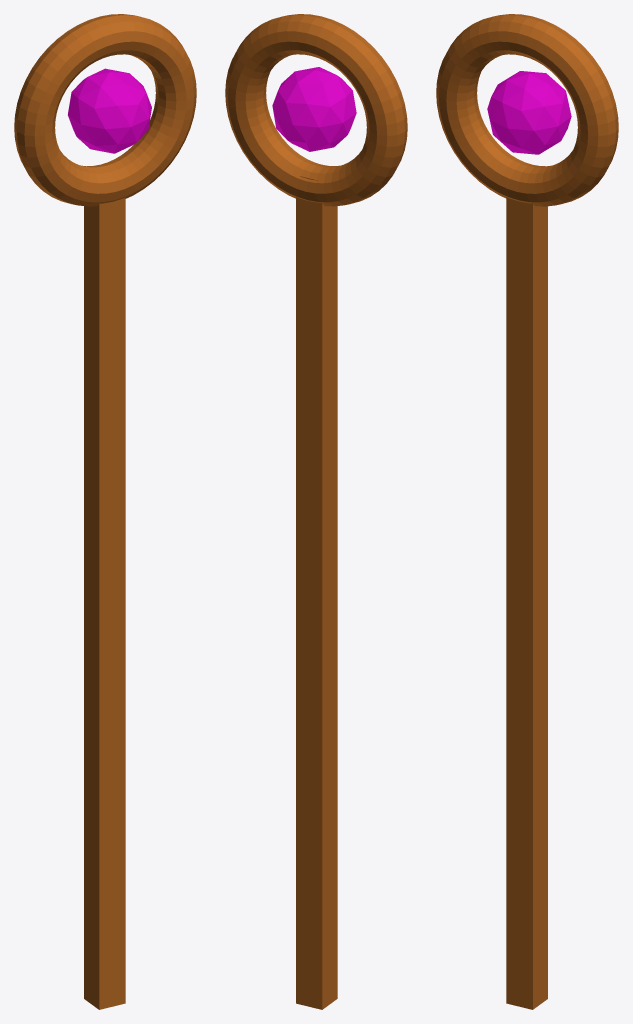
The model's file is Staff.fbx.
3 renders of one model, left to right at view 1: azimuth 30°, elevation 25°; view 2: azimuth 150°, elevation 25°; view 3: azimuth 330°, elevation 25°, orthographic.
Parts seen in each view (by area): view 1: Staff, Head, Focus; view 2: Staff, Head, Focus; view 3: Staff, Head, Focus.
Part boxes in pixels (x1,y1,x2,y2): Staff: (84, 197, 125, 1009); Head: (14, 14, 196, 206); Focus: (68, 68, 151, 153); Staff: (296, 176, 337, 1009); Head: (225, 14, 407, 206); Focus: (272, 67, 356, 151); Staff: (506, 197, 547, 1009); Head: (436, 14, 618, 206); Focus: (487, 71, 571, 154).
Size of the model in its own units: 134 by 712 by 56.57.
